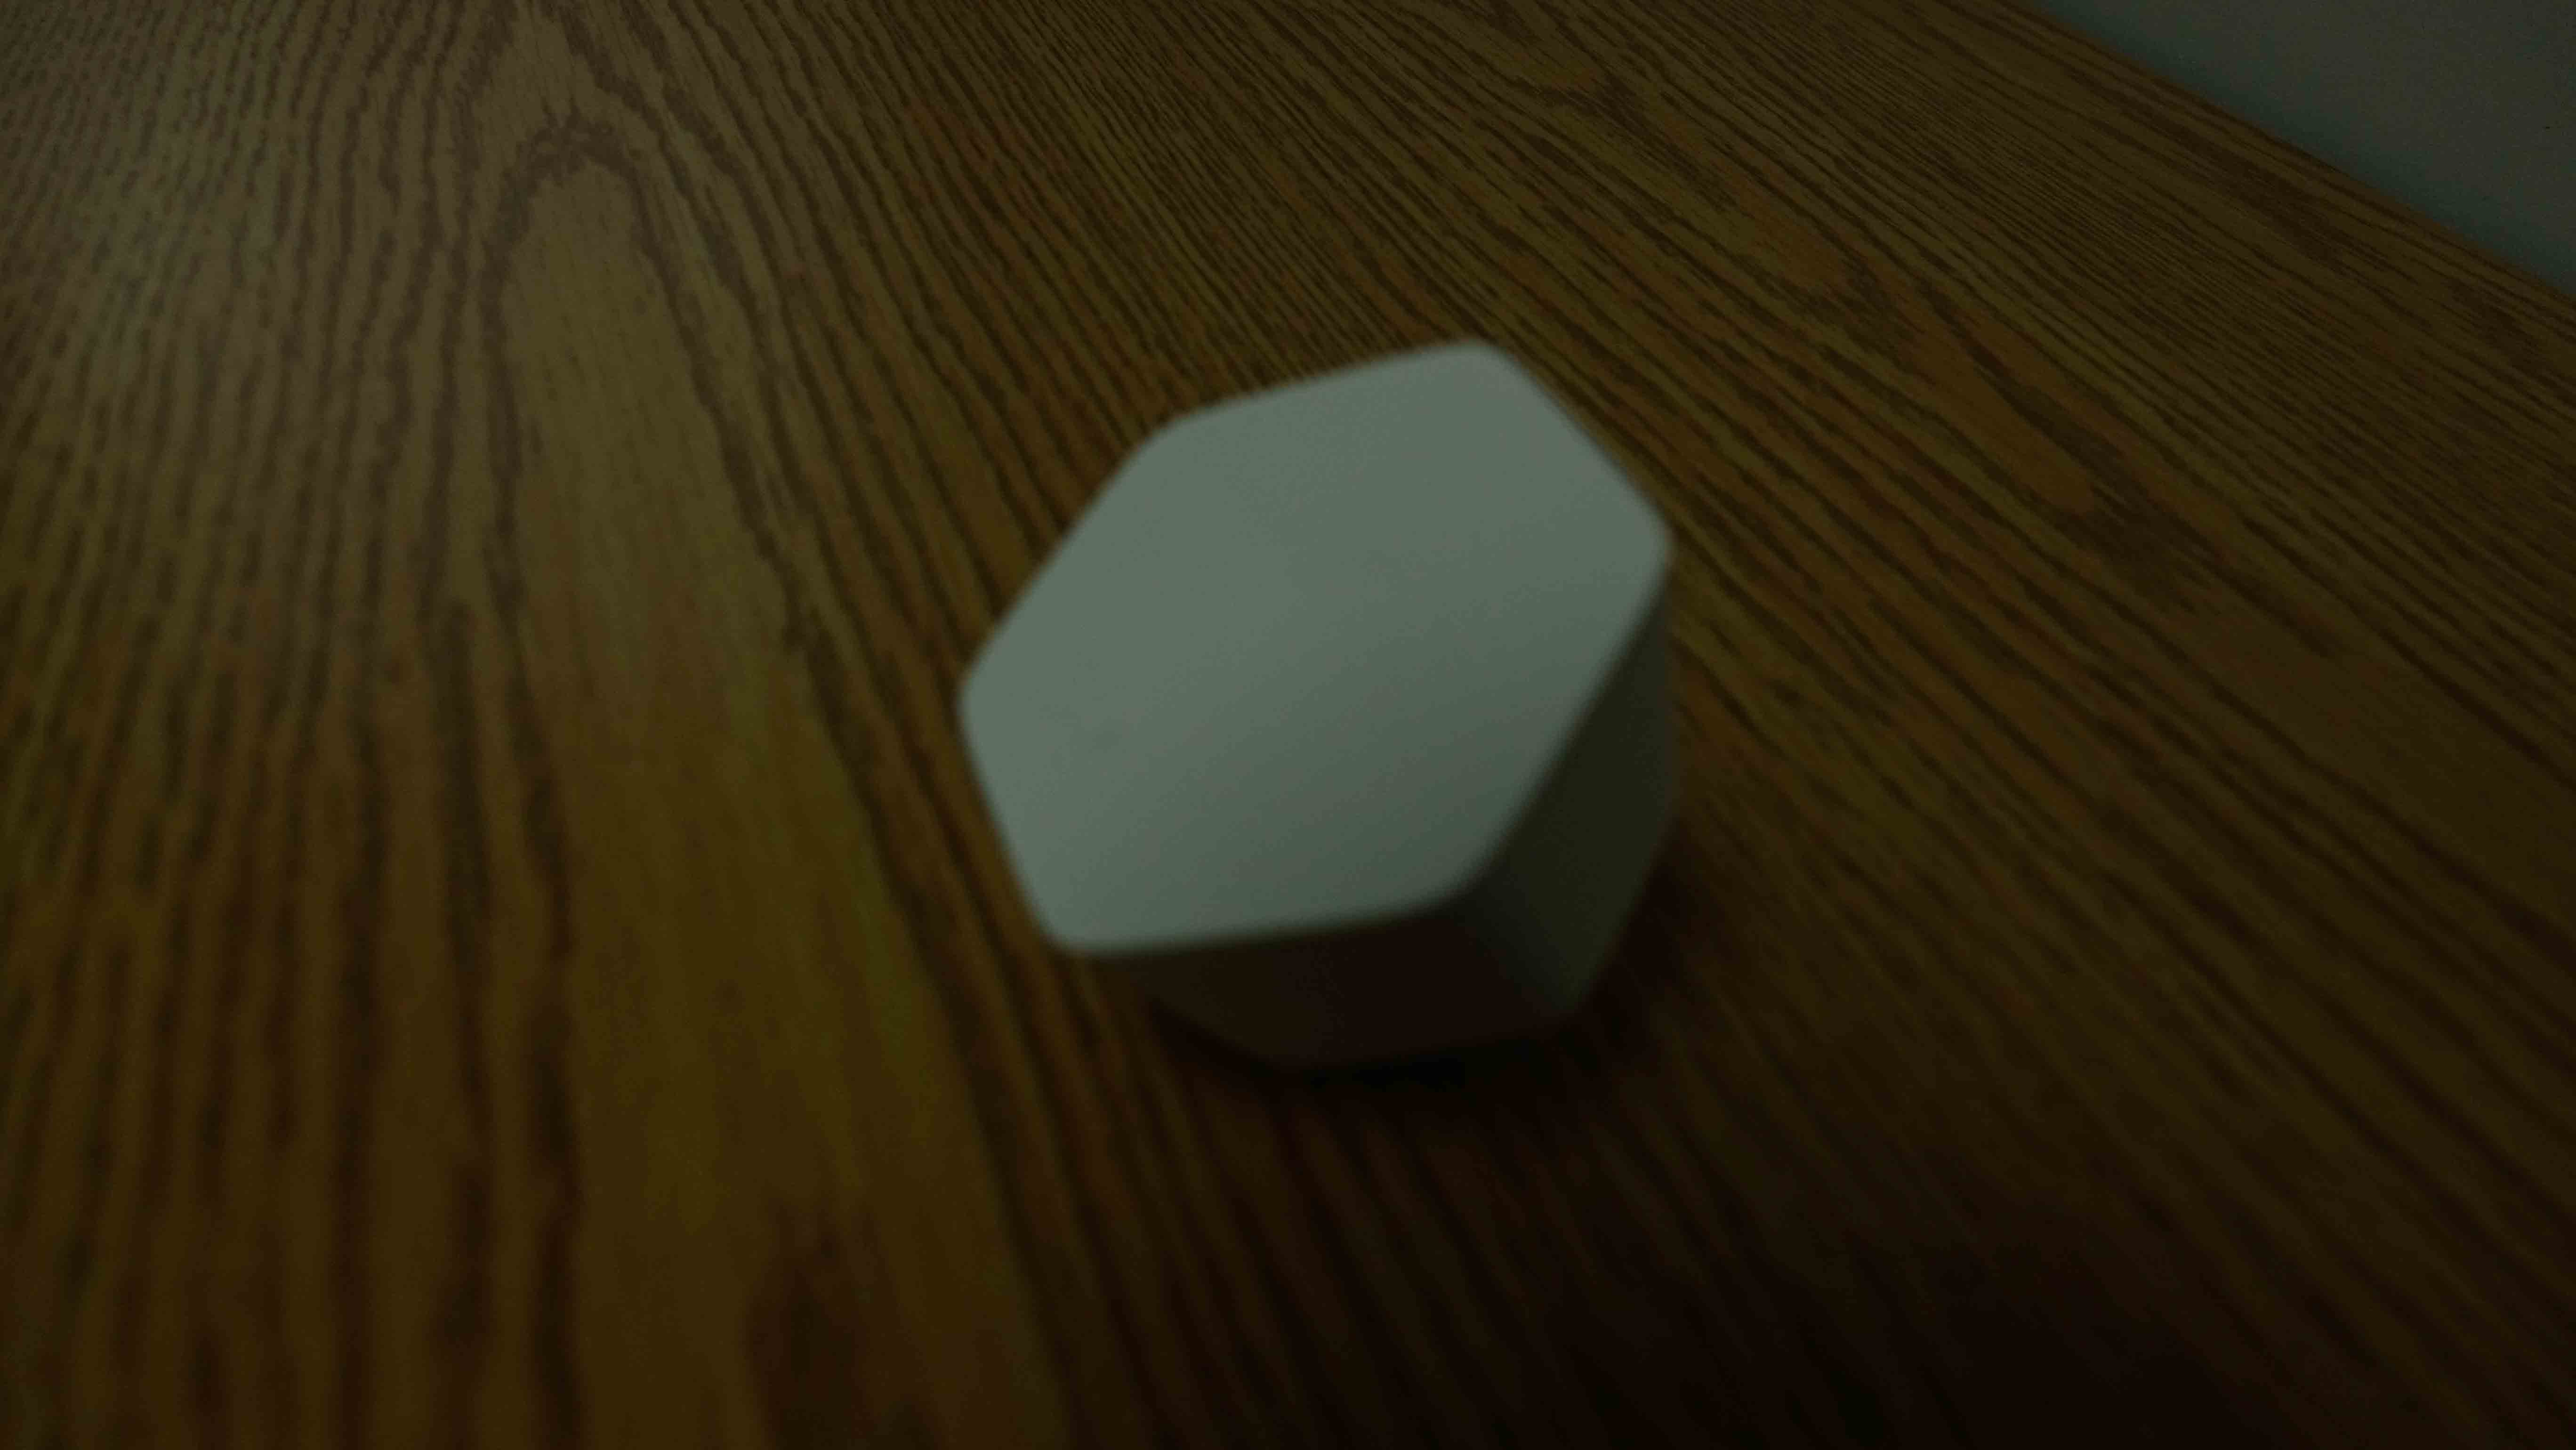pod: (943, 329, 1713, 1096)
